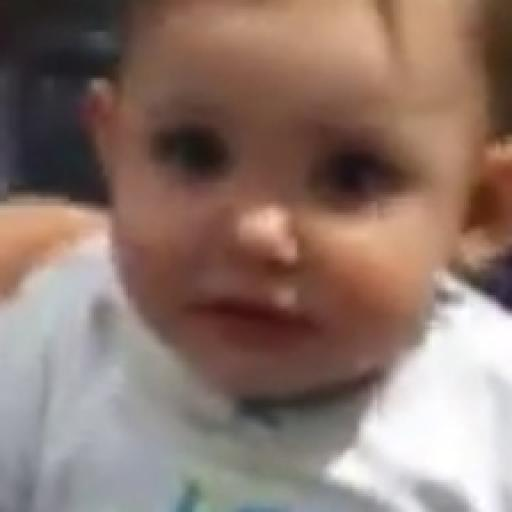Autism: (87, 22, 473, 433)
